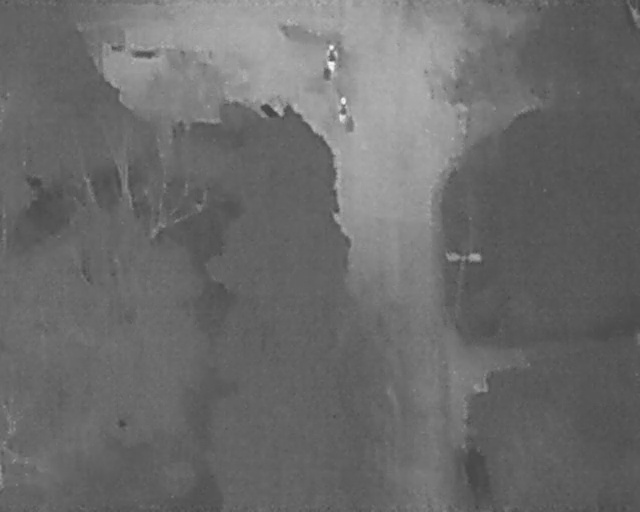Person: (324, 40, 338, 76), (337, 94, 350, 128)
